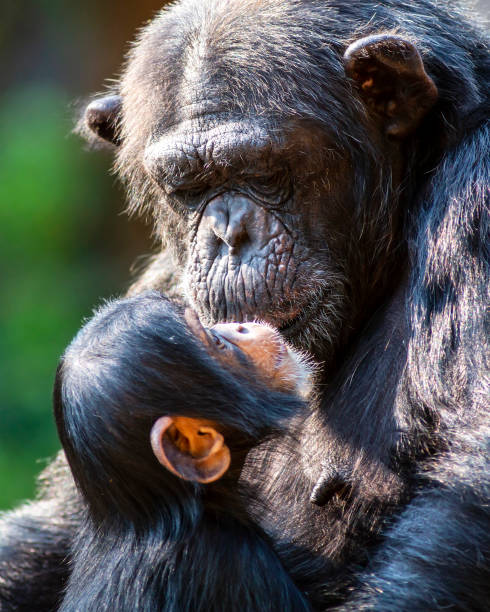chimpanzee: (59, 1, 490, 392)
